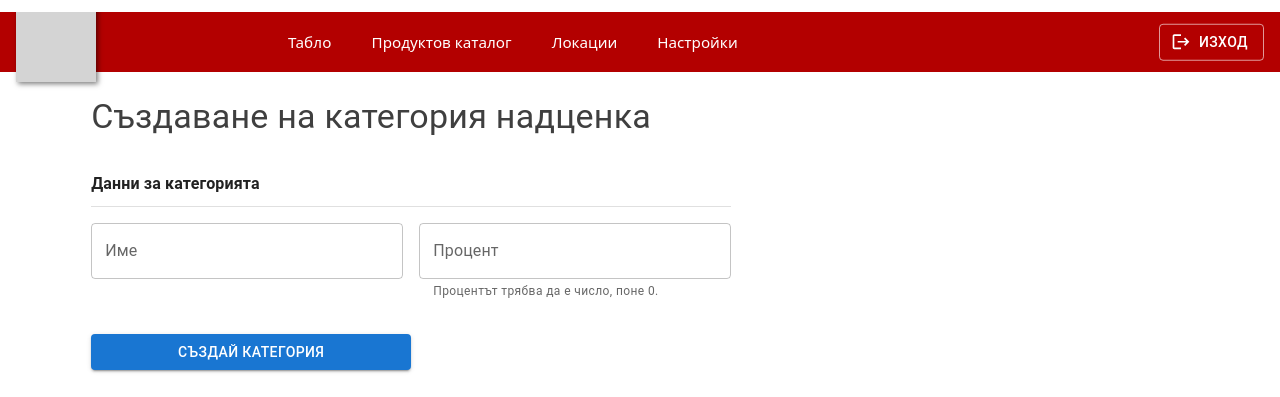
Test: Create fee category page › blocks submission and reports validation errors when the fields are empty
The width and height of the screenshot is (1280, 397).
Click the button "Създай категория": (251, 352) left=91, top=334, right=411, bottom=370
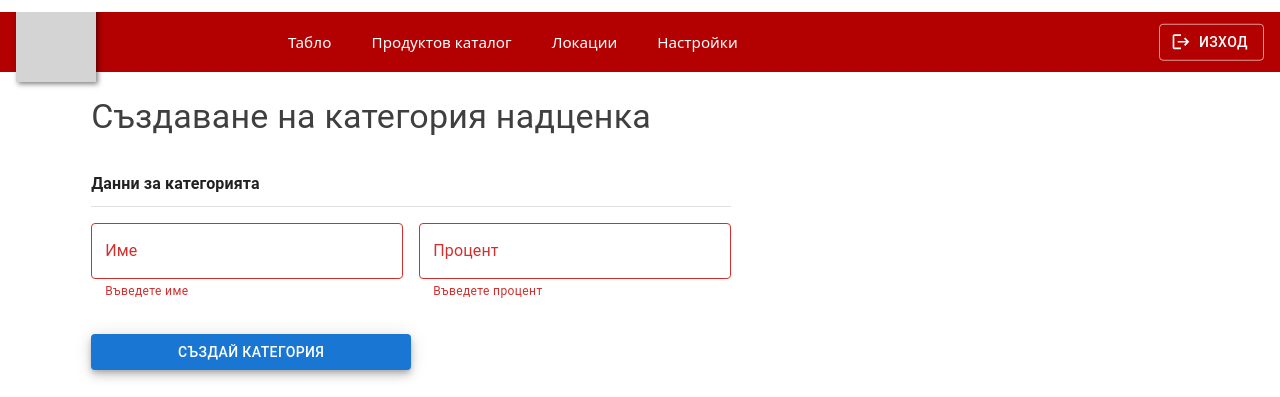
Now the text "Въведете име" is shown, box left=105, top=284, right=188, bottom=298
Now the text "Въведете процент" is shown, box left=433, top=284, right=543, bottom=298
